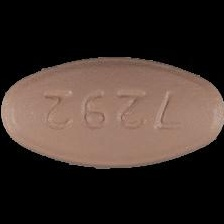43063-635: (0, 0, 224, 224)
